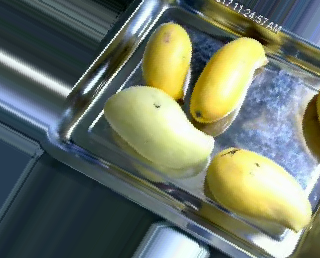Mango: (104, 84, 214, 167), (208, 146, 311, 229), (190, 36, 267, 123), (141, 22, 192, 99)
